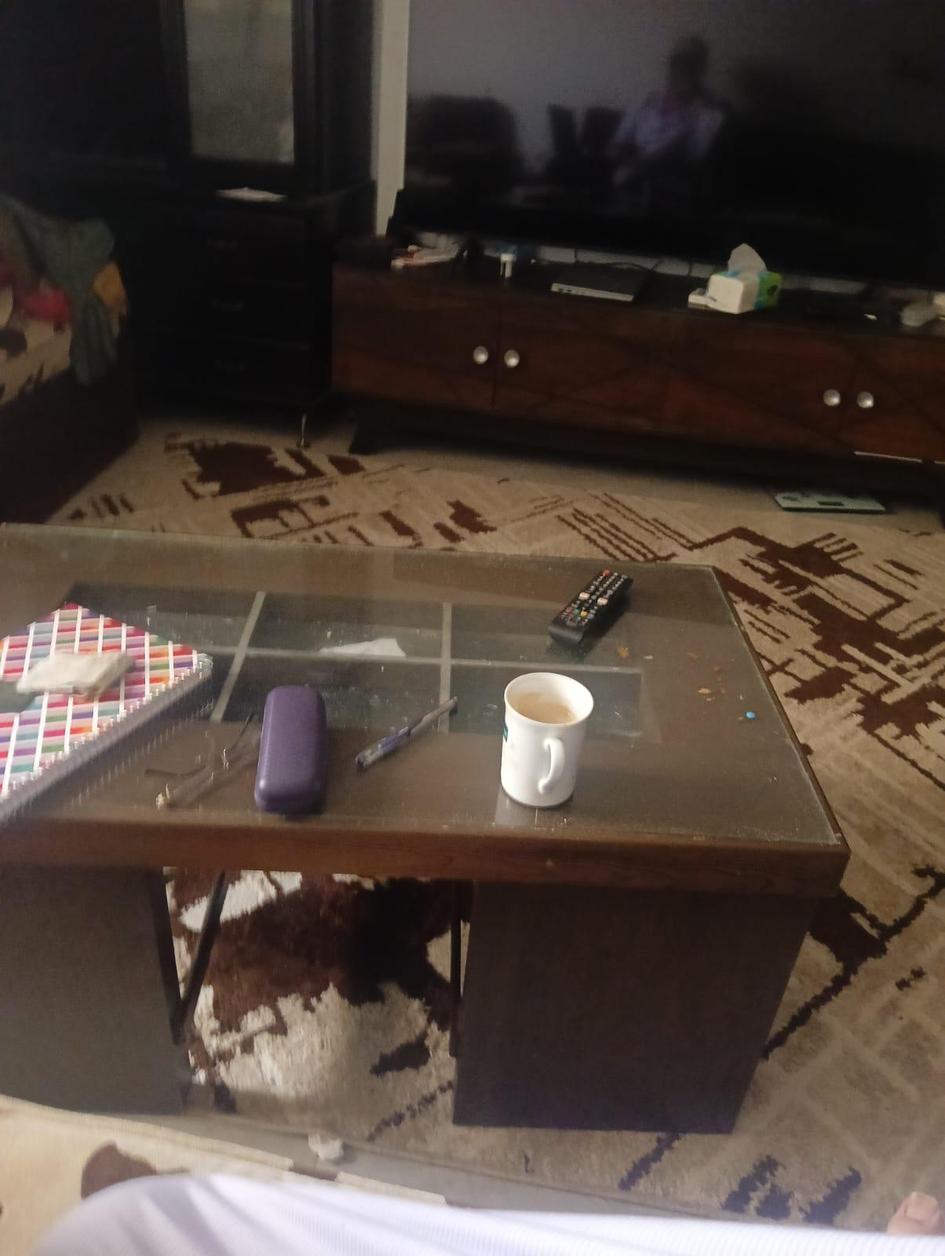cup: (501, 673, 593, 809)
